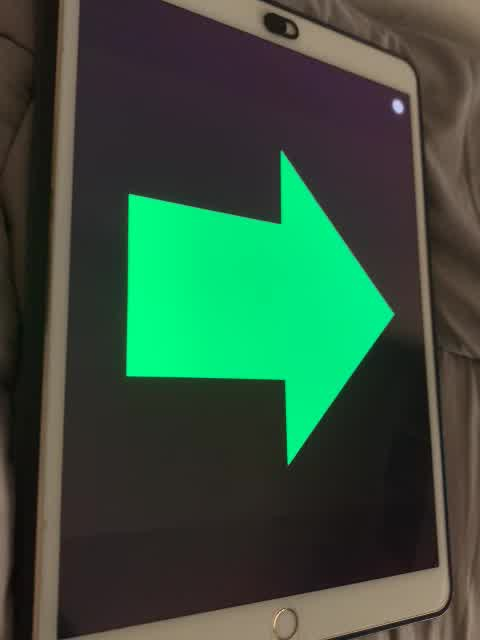right: (119, 142, 398, 473)
